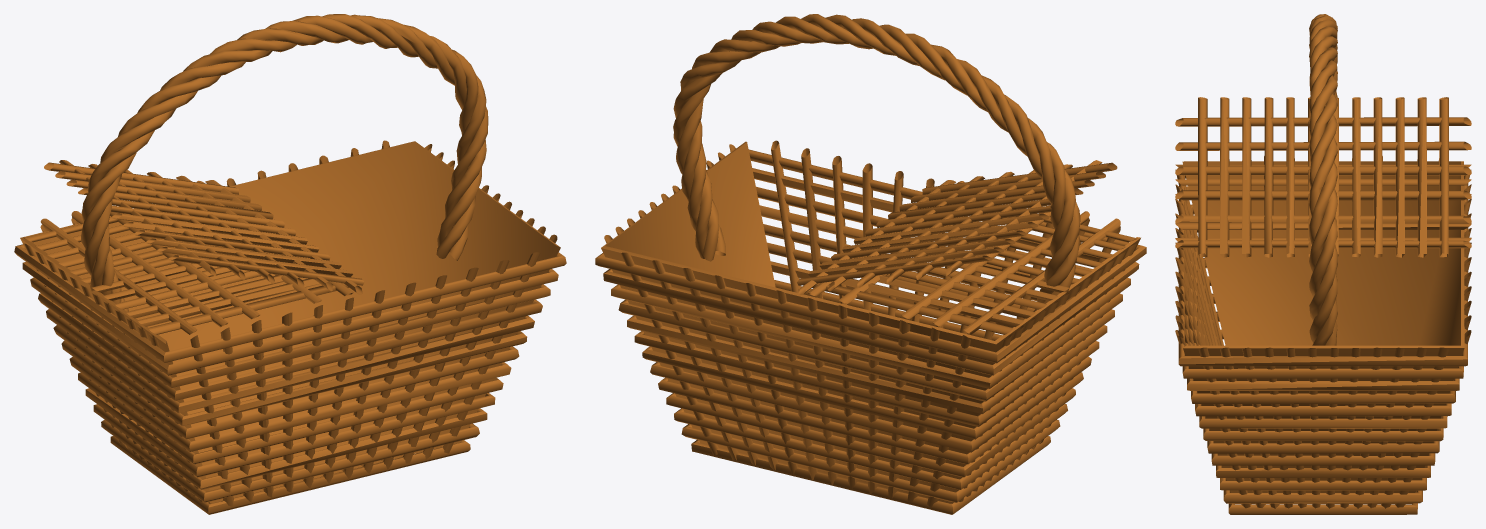
The model's file is cestino_picnic_LOD0.fbx.
3 views of the same model, side by side, from view 1: azimuth 30°, elevation 25°; view 2: azimuth 150°, elevation 25°; view 3: azimuth 270°, elevation 25° (orthographic). The views are drawn at different scales.
Parts seen in each view (by area): view 1: clothes_003; view 2: clothes_003; view 3: clothes_003.
Boxes of the visible parts, x1,y1,x2,y2 form: clothes_003: [14, 14, 566, 514]; clothes_003: [595, 14, 1146, 514]; clothes_003: [1175, 14, 1471, 514].
Bounding box in the file's own units: 160 × 159 × 103.
